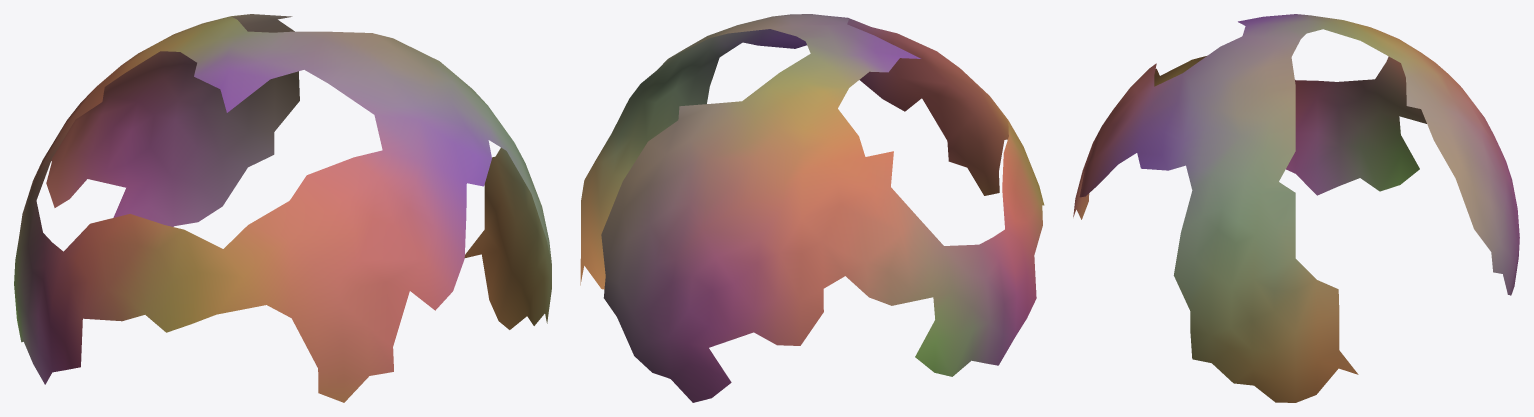
Rendered from space-nebulae-nebula_v38.fbx.
3 views of the same model, side by side, from view 1: azimuth 30°, elevation 25°; view 2: azimuth 150°, elevation 25°; view 3: azimuth 270°, elevation 25° (orthographic). The views are drawn at different scales.
Visible parts, largest first — view 1: Nebula_v38; view 2: Nebula_v38; view 3: Nebula_v38.
Boxes of the visible parts, box(x1,y1,x2,y2) form: Nebula_v38: box(14, 14, 551, 402); Nebula_v38: box(580, 14, 1044, 402); Nebula_v38: box(1073, 14, 1519, 402).
Size of the model in its own units: 0.5 by 0.3456 by 0.4988.
